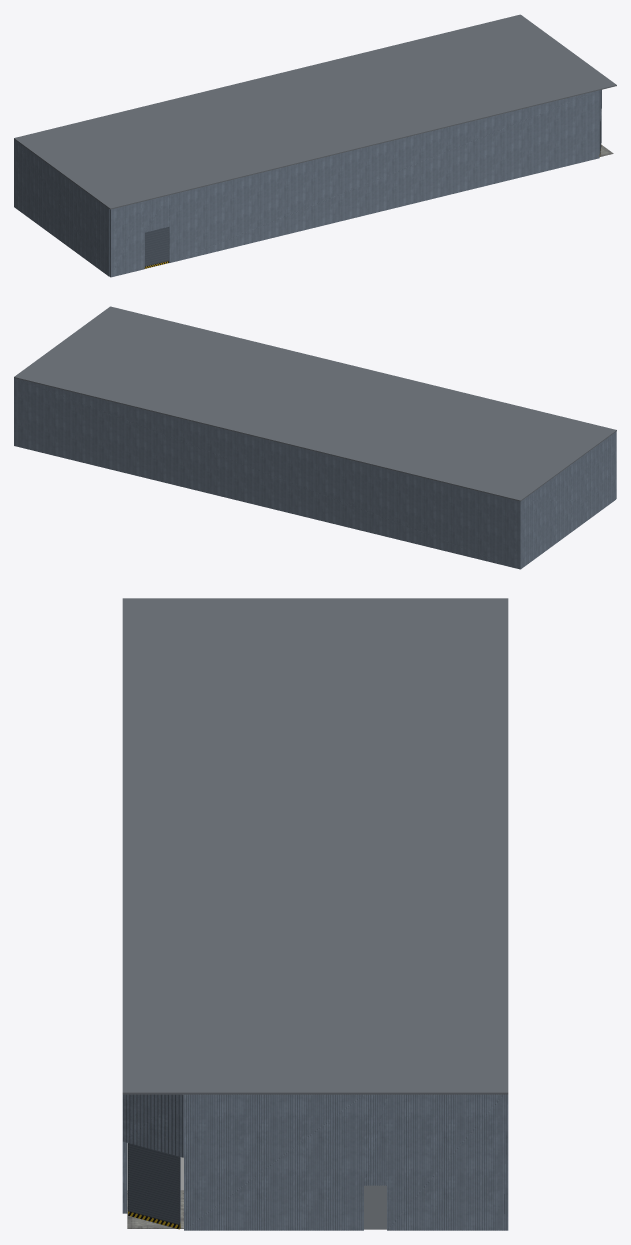
Rendered from fnad_magazyn.glb.
3 renders of one model, top to bottom at view 1: azimuth 30°, elevation 25°; view 2: azimuth 150°, elevation 25°; view 3: azimuth 270°, elevation 25°, orthographic. The views are drawn at different scales.
Visible parts, largest first — view 1: fn_shell; view 2: fn_shell; view 3: fn_shell.
Part boxes in pixels (x1,y1,x2,y2): fn_shell: [14, 14, 616, 277]; fn_shell: [14, 306, 616, 569]; fn_shell: [122, 598, 508, 1230].
Bounding box in the file's own units: 50.72 × 6.61 × 16.7.
Materials: 59 (12 with a texture image).
